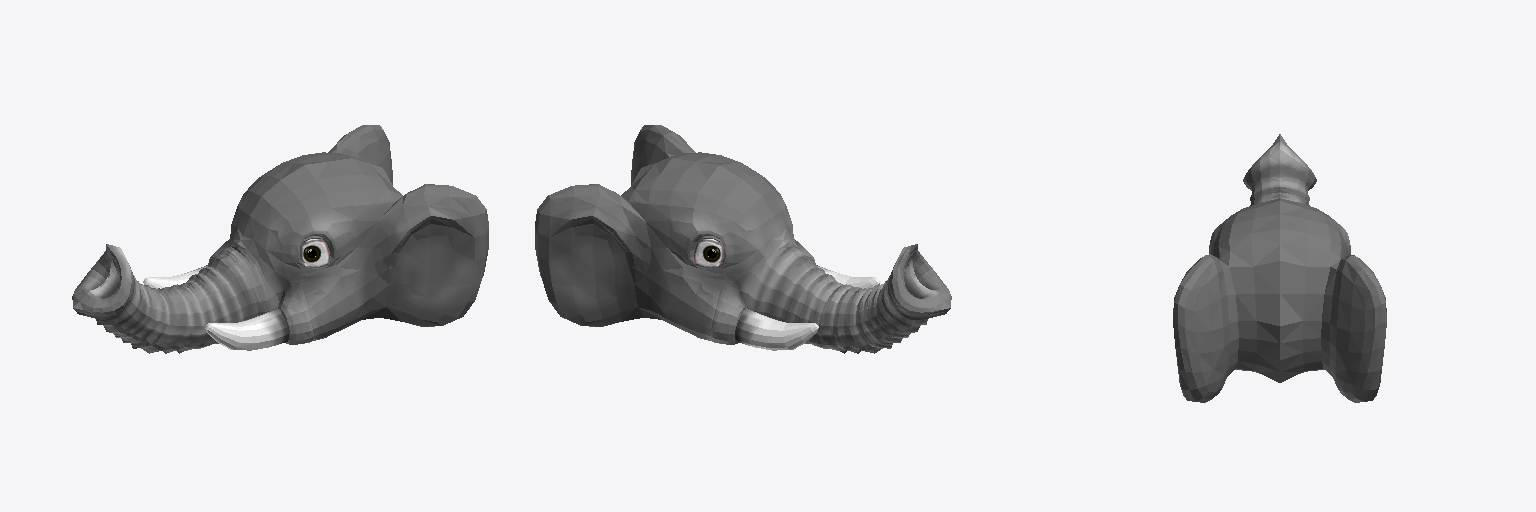
3 views of the same model, side by side, from view 1: azimuth 30°, elevation 25°; view 2: azimuth 150°, elevation 25°; view 3: azimuth 270°, elevation 25° (orthographic).
Visible parts, largest first — view 1: polySurface7; view 2: polySurface7; view 3: polySurface7.
Part boxes in pixels (left/top/right/bottom): polySurface7: left=72, top=125, right=488, bottom=353; polySurface7: left=535, top=125, right=951, bottom=353; polySurface7: left=1173, top=134, right=1386, bottom=402.
Size of the model in its own units: 25.15 by 10.4 by 12.75.
Materials: 1 (1 with a texture image).